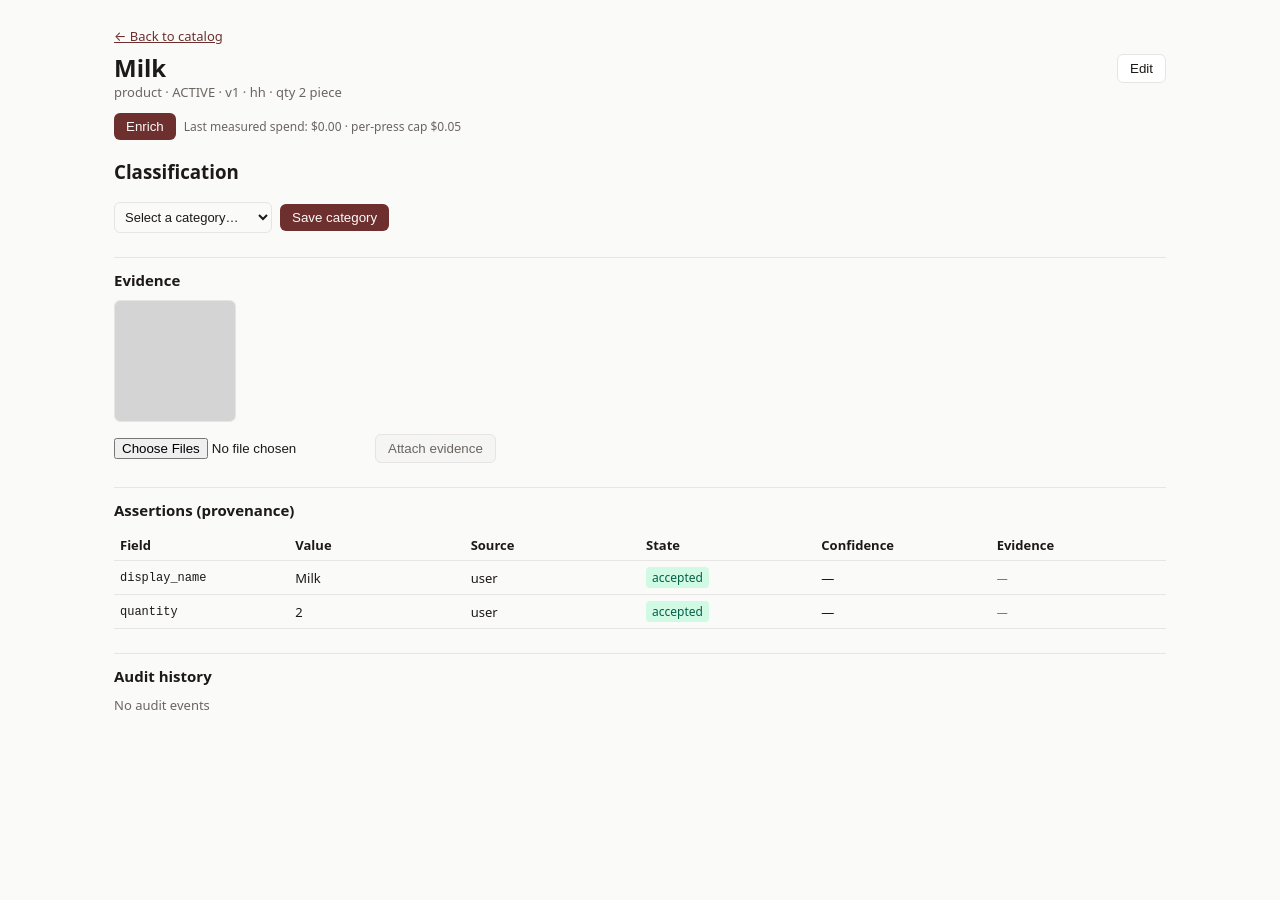
AssetDetailPage › editing quantity patches via PATCH and shows the superseded prior value in history
The width and height of the screenshot is (1280, 900).
Click the button "Edit" at x=1142, y=68, box left=1117, top=54, right=1166, bottom=83
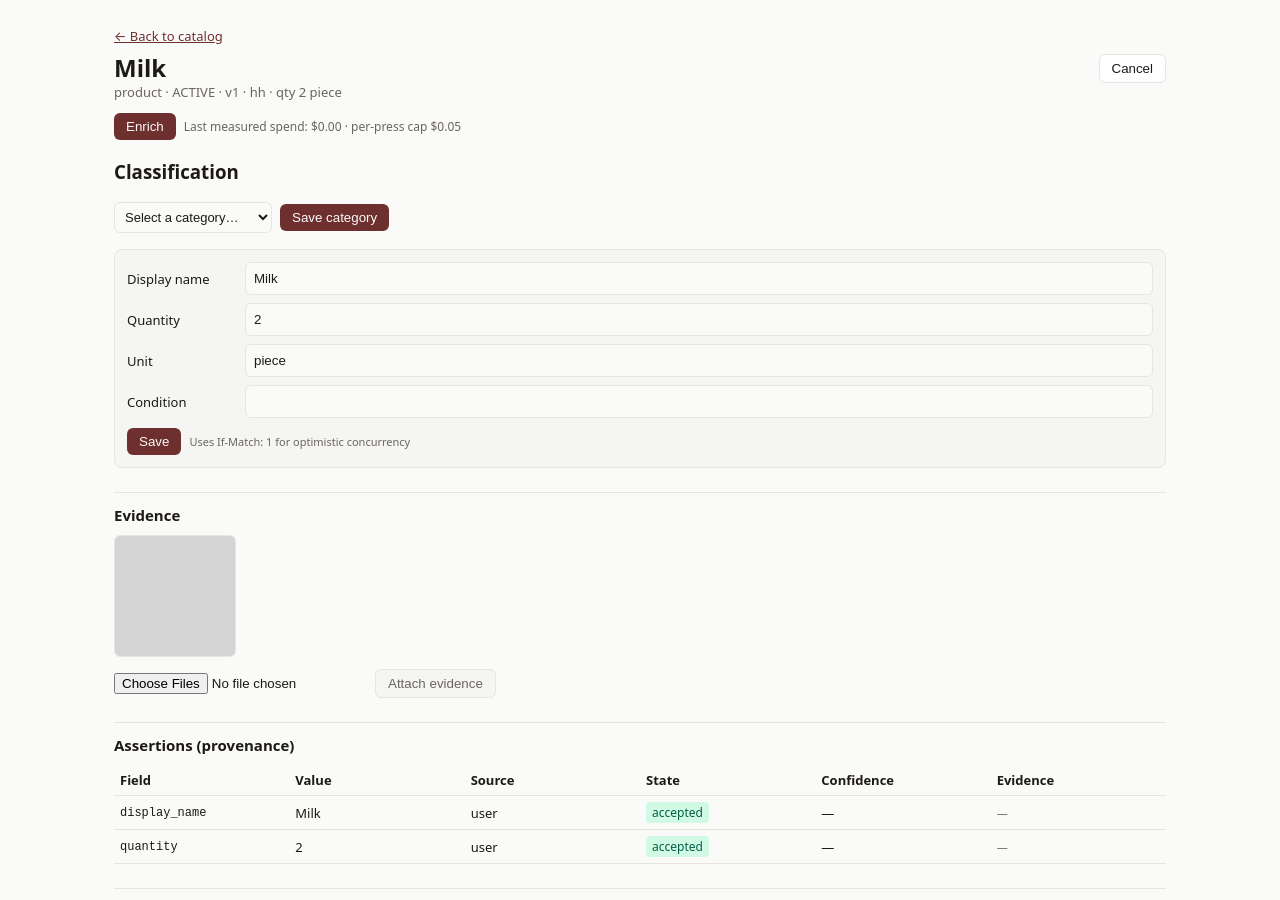
Replace the text in the number field labelled "Quantity" with "3" at x=699, y=320, box left=245, top=303, right=1153, bottom=336
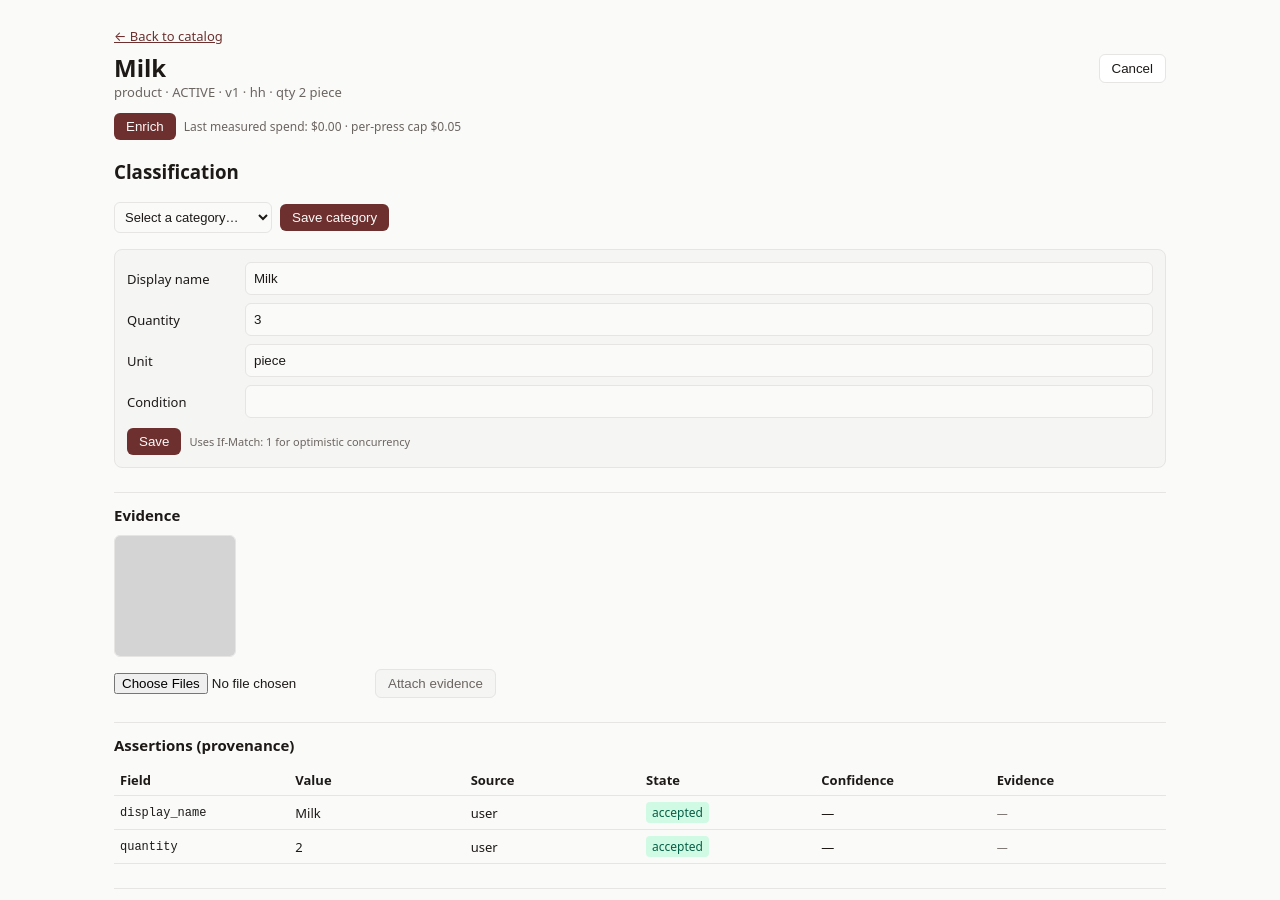
Click the button "Save" at x=154, y=442, box left=127, top=428, right=181, bottom=455
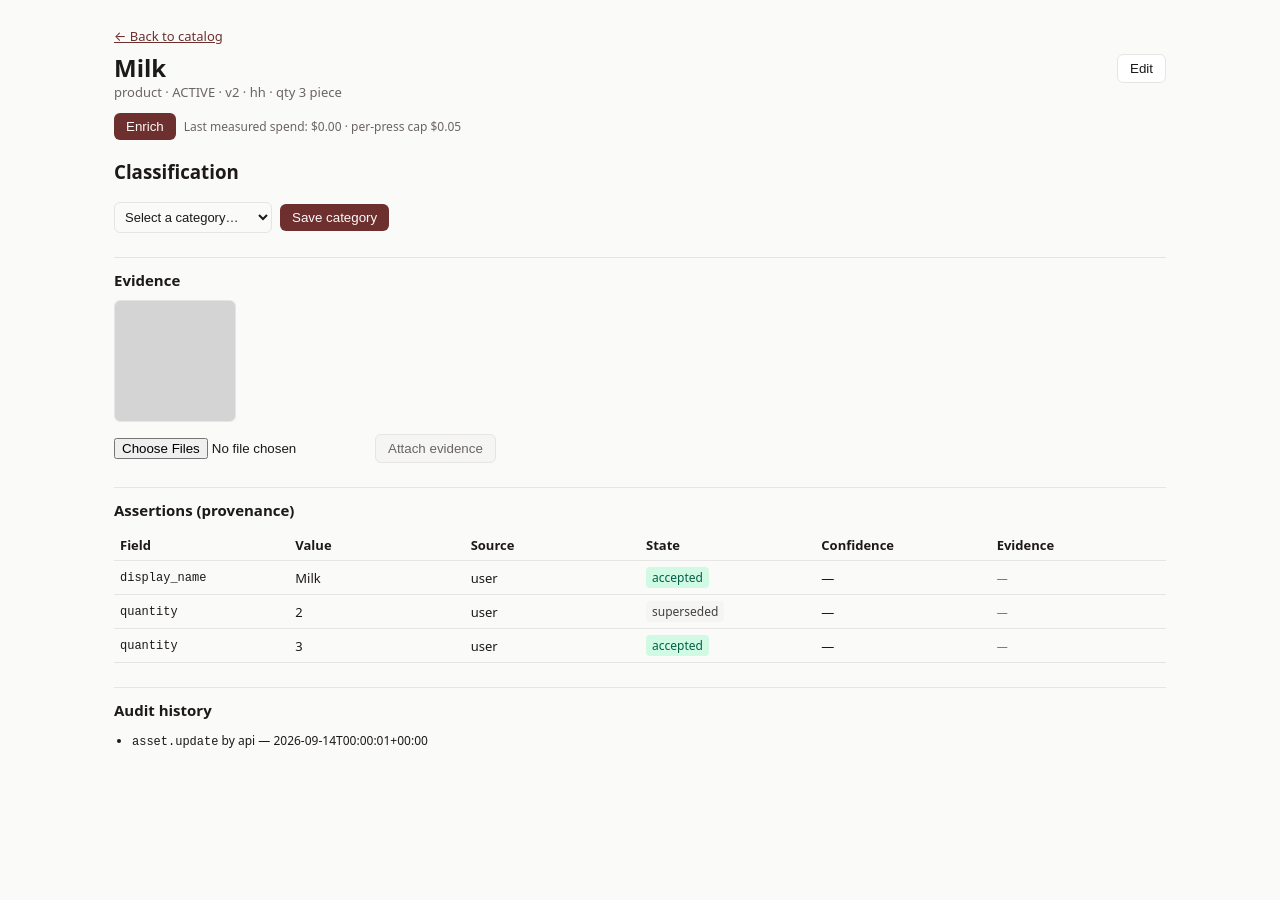
Now the text "superseded" is shown, box left=646, top=601, right=724, bottom=622
Now the text "asset.update" is shown, box left=132, top=735, right=218, bottom=749
